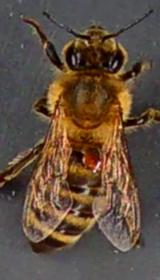varroa_mite: (79, 143, 106, 174)
